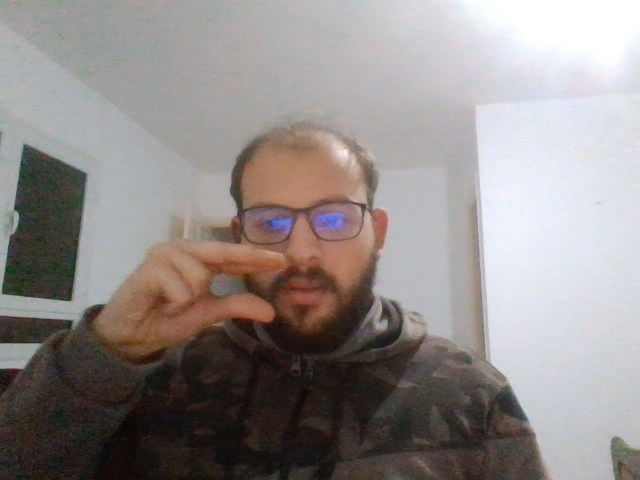No: (136, 243, 288, 333)
